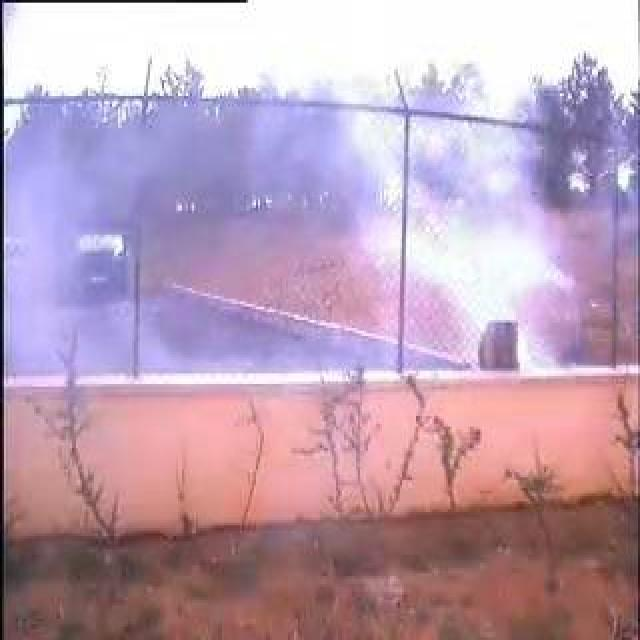Smoke: (237, 68, 569, 367)
